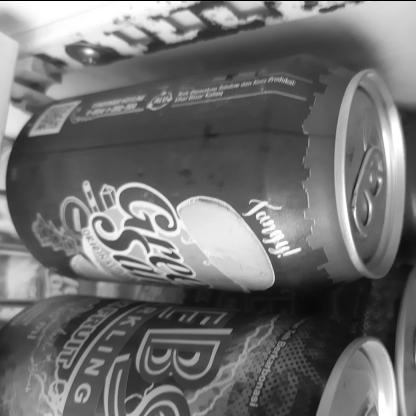alumunium_can: (0, 46, 413, 282)
